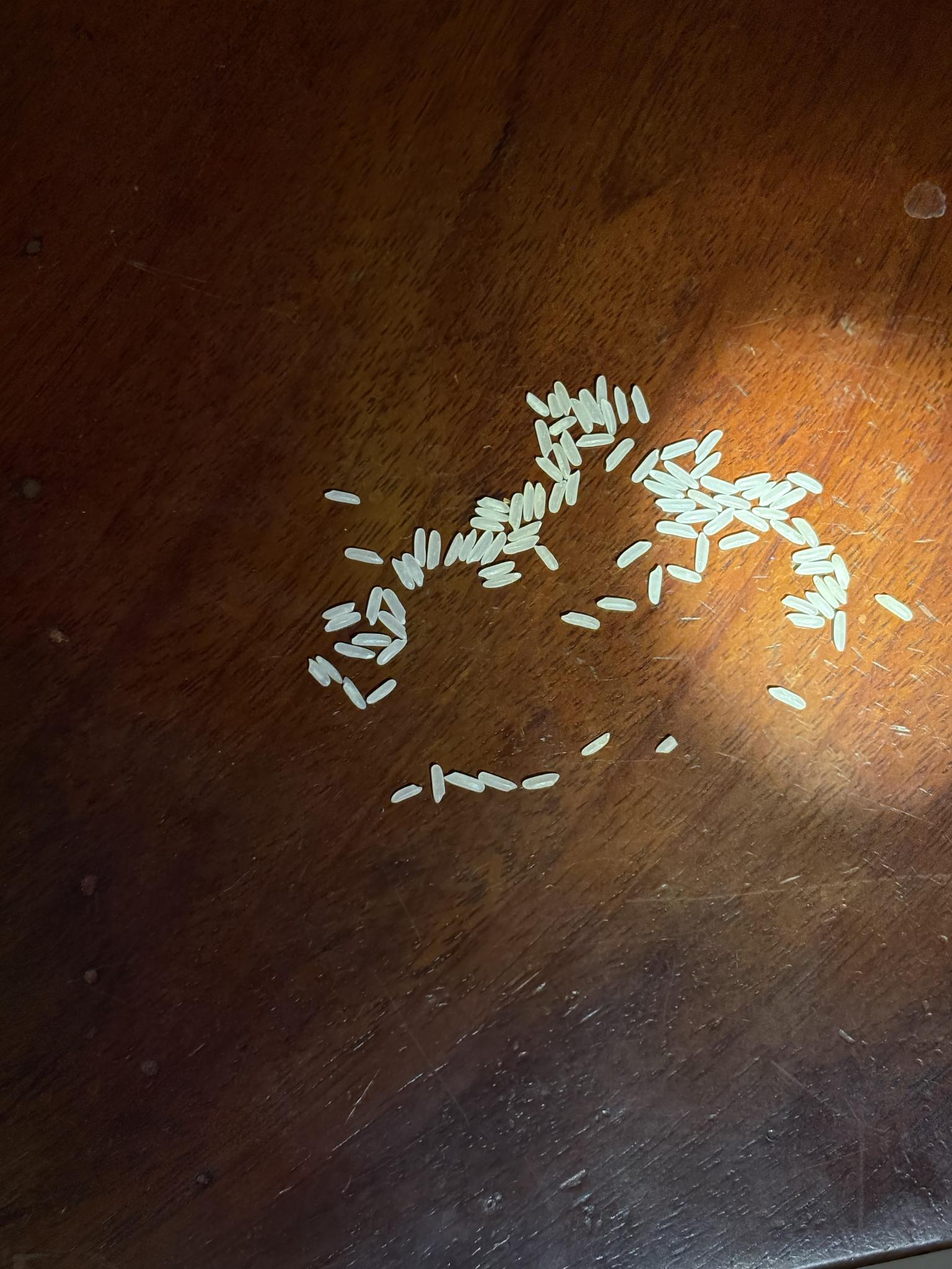Rice-th-y-nh: (664, 461, 699, 489), (695, 429, 723, 463), (876, 595, 913, 620), (606, 439, 634, 471), (617, 542, 651, 568), (813, 576, 840, 608), (467, 531, 493, 564), (378, 611, 407, 640), (632, 451, 658, 483), (690, 453, 722, 479), (771, 520, 804, 545), (446, 772, 485, 793), (769, 687, 806, 709), (805, 591, 835, 618), (704, 510, 735, 536), (793, 518, 820, 547), (316, 655, 343, 684), (581, 390, 604, 424), (478, 772, 517, 792), (384, 589, 406, 624), (760, 482, 792, 506), (644, 480, 684, 499), (782, 595, 818, 616), (367, 679, 397, 704), (560, 431, 582, 465), (571, 399, 593, 433), (482, 533, 506, 564), (342, 678, 366, 709), (734, 511, 769, 532), (792, 545, 835, 562), (688, 489, 721, 511), (402, 553, 424, 586), (377, 639, 406, 664), (365, 587, 384, 625), (650, 470, 686, 490), (772, 488, 806, 509), (788, 472, 822, 493), (657, 521, 698, 538), (325, 613, 361, 632), (719, 531, 757, 549), (392, 559, 414, 590), (632, 386, 650, 423), (335, 643, 374, 660), (561, 612, 600, 629), (536, 457, 563, 481), (582, 733, 610, 756), (824, 576, 847, 604), (458, 529, 478, 561), (662, 440, 697, 458), (522, 773, 559, 790), (509, 521, 542, 540), (552, 444, 571, 477), (677, 508, 716, 524), (308, 659, 330, 687), (701, 476, 735, 494), (535, 420, 552, 456), (479, 561, 515, 578), (444, 534, 463, 566), (668, 565, 701, 583), (346, 548, 383, 564), (430, 765, 446, 802), (483, 573, 521, 588), (648, 566, 663, 604), (832, 555, 849, 588), (504, 537, 539, 553), (656, 499, 696, 513), (714, 495, 751, 510), (787, 614, 824, 629), (532, 483, 547, 520), (535, 546, 558, 570), (597, 597, 636, 611), (601, 400, 617, 434), (614, 387, 629, 423), (734, 473, 770, 488), (322, 603, 355, 619), (391, 785, 422, 802), (351, 633, 391, 646), (427, 531, 441, 568), (470, 517, 504, 532), (743, 484, 773, 501), (696, 533, 709, 572), (527, 393, 549, 416), (478, 497, 509, 513), (549, 482, 565, 513), (549, 417, 575, 436), (796, 562, 834, 575), (509, 494, 523, 529), (413, 528, 426, 565), (554, 382, 570, 412), (834, 612, 846, 652), (566, 471, 580, 504), (753, 507, 788, 520), (326, 491, 360, 504), (577, 433, 613, 445), (475, 507, 505, 521), (523, 482, 534, 520), (656, 737, 677, 753), (548, 394, 562, 417), (596, 376, 607, 401)
